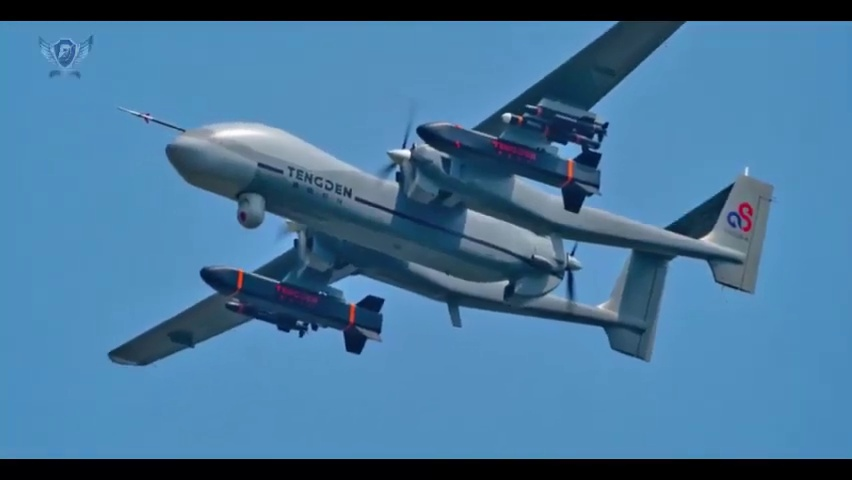military drone: (108, 21, 774, 367)
